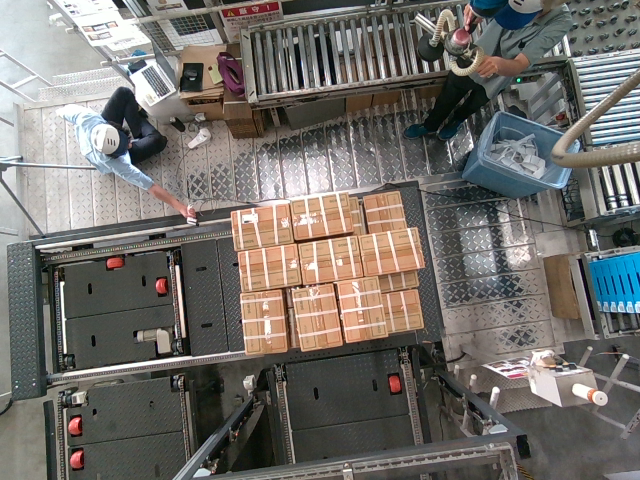box: (293, 285, 341, 351), (336, 276, 384, 342), (239, 292, 285, 352), (230, 207, 290, 249), (236, 249, 296, 291), (297, 238, 357, 280), (360, 233, 420, 275), (289, 194, 349, 236)
